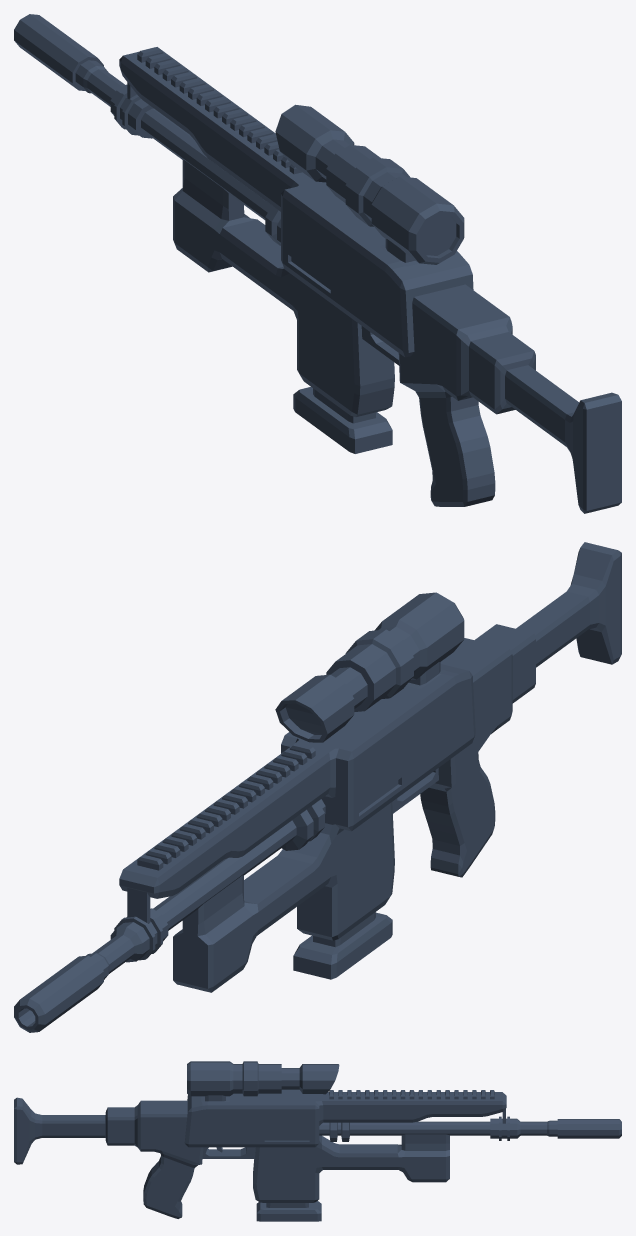
File: rifle.glb
3 renders of one model, top to bottom at view 1: azimuth 30°, elevation 25°; view 2: azimuth 150°, elevation 25°; view 3: azimuth 270°, elevation 25°, orthographic. The views are drawn at different scales.
Parts seen in each view (by area): view 1: Rifle_Cube; view 2: Rifle_Cube; view 3: Rifle_Cube.
Boxes of the visible parts, x1,y1,x2,y2 form: Rifle_Cube: (14, 14, 621, 513); Rifle_Cube: (14, 542, 621, 1032); Rifle_Cube: (14, 1061, 621, 1221).
Bounding box in the file's own units: 0.0868 × 0.34 × 1.22.
